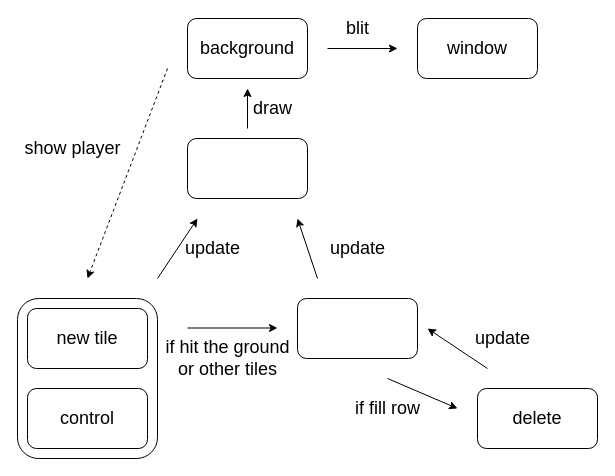
The diagram is 615 pixels wide and 476 high, and some of its shapes have lost their labels. Here are the shapes that lost their labels. From the top down, the centre of each, then its label:
At (x=247, y=168): "grid".
At (x=357, y=328): "lock".
